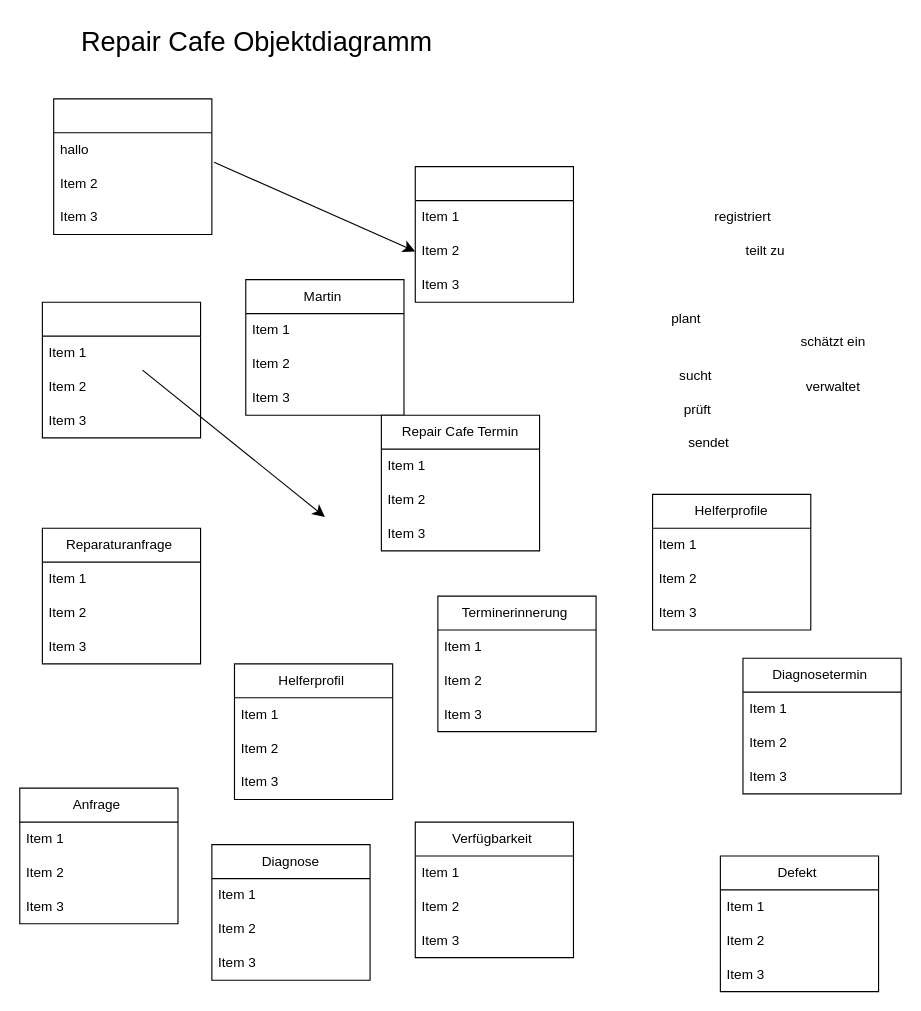
Some shapes in this 921 by 1011 pixel diagram are drawn without their labels. Each missing label, with the box of its shape:
Helfer: (41, 301, 201, 438)
Hilfesuchende: (414, 166, 573, 302)
Sabine: (53, 98, 212, 234)
